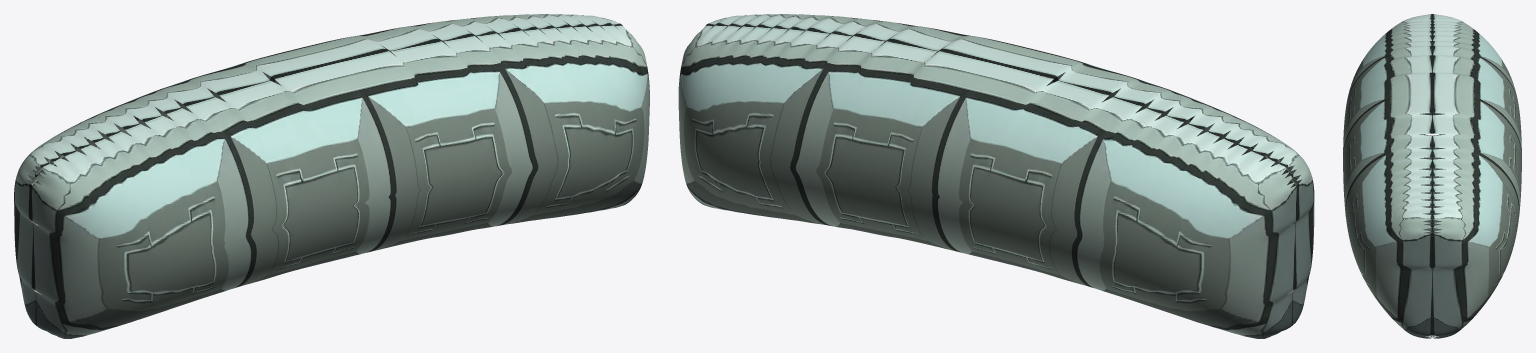
File: arc_retaining_wall.glb
The picture shows the model from 3 angles, left to right: view 1: azimuth 30°, elevation 25°; view 2: azimuth 150°, elevation 25°; view 3: azimuth 270°, elevation 25°; orthographic projection. The views are drawn at different scales.
Visible parts, largest first — view 1: arc_retaining_wall; view 2: arc_retaining_wall; view 3: arc_retaining_wall.
Boxes of the visible parts, box(x1,y1,x2,y2) form: arc_retaining_wall: box(14, 14, 649, 338); arc_retaining_wall: box(678, 14, 1314, 338); arc_retaining_wall: box(1343, 14, 1521, 338).
Size of the model in its own units: 0.989 by 0.3213 by 0.3527.
1 material, 1 textured.
